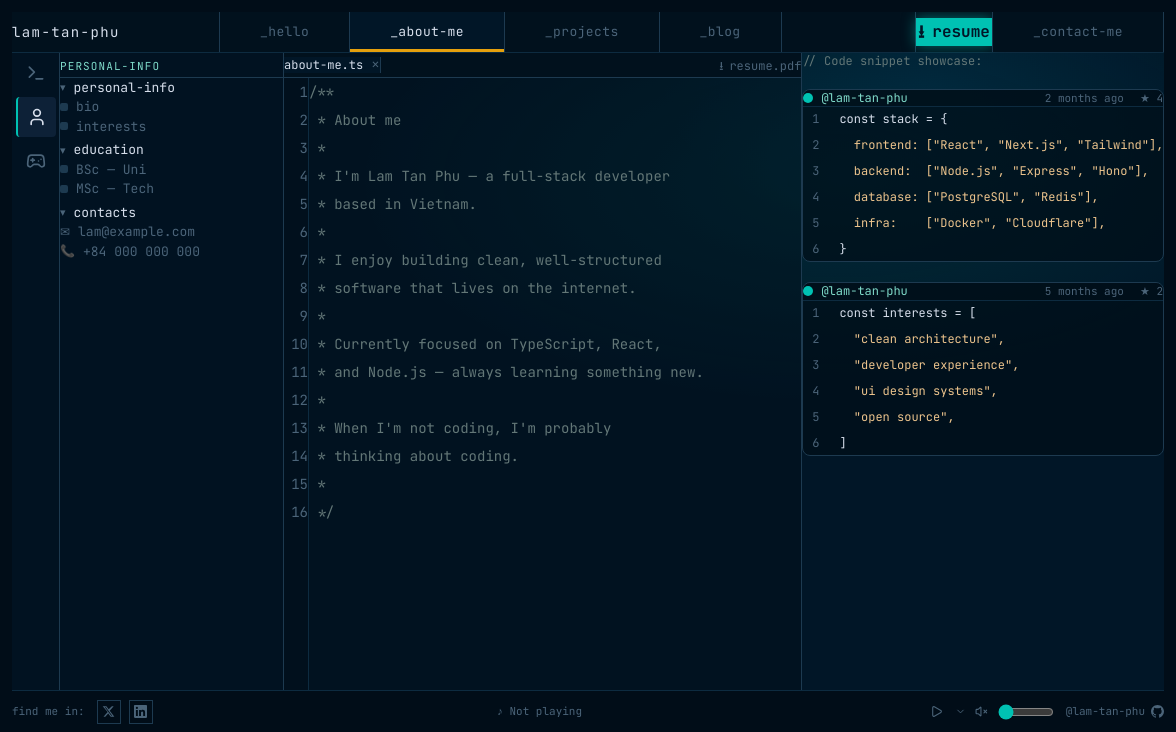
Scenario: AboutPage › shows "// none yet" for an empty group
Step 1. Click the button titled "Professional Info" → (36, 72), box [16,52,56,92]
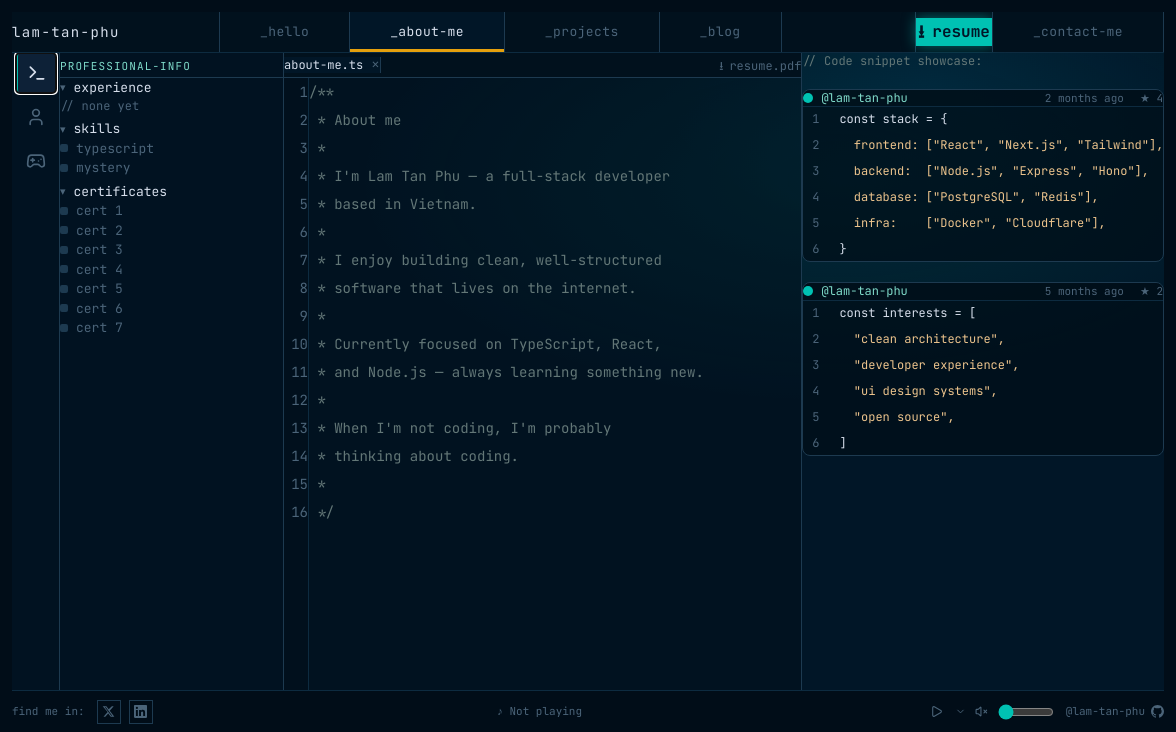
Now the text "// none yet" is shown, box [60,98,139,114]
